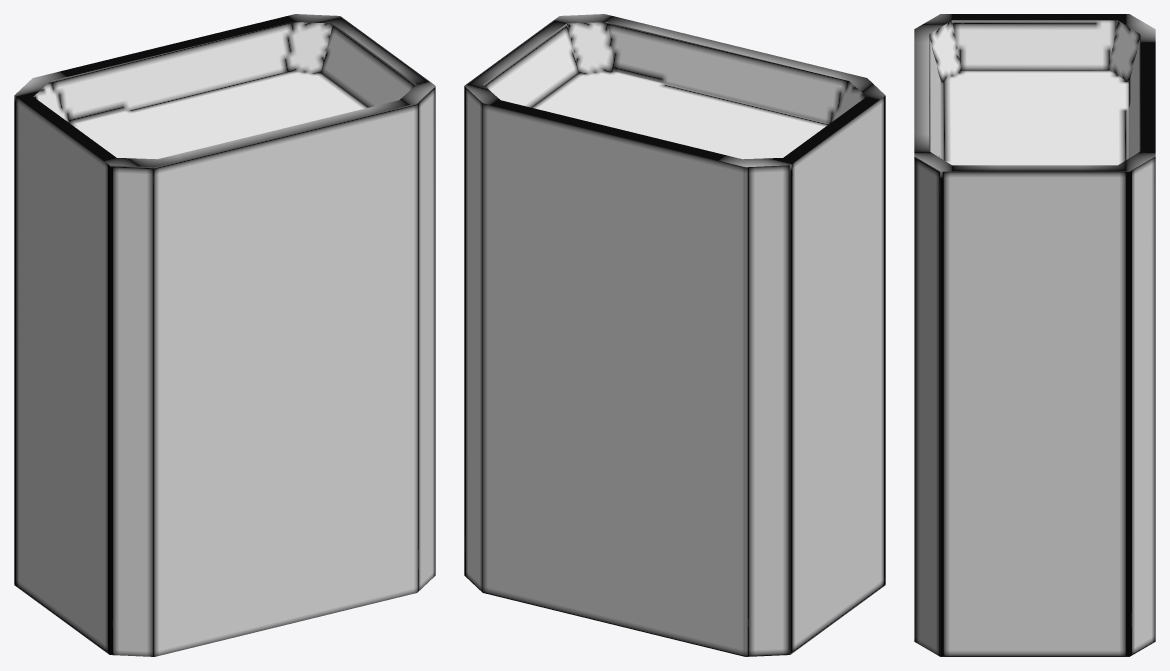
File: raketenhalterung_r.obj
The picture shows the model from 3 angles, left to right: view 1: azimuth 30°, elevation 25°; view 2: azimuth 150°, elevation 25°; view 3: azimuth 270°, elevation 25°; orthographic projection.
Parts seen in each view (by area): view 1: cube1_sep94; view 2: cube1_sep94; view 3: cube1_sep94.
Part boxes in pixels (box(x1,y1,x2,y2)): cube1_sep94: box(14, 14, 435, 656); cube1_sep94: box(464, 14, 885, 656); cube1_sep94: box(914, 14, 1155, 656).
Bounding box in the file's own units: 2.12 × 3.05 × 1.38.
Materials: 1 (1 with a texture image).
